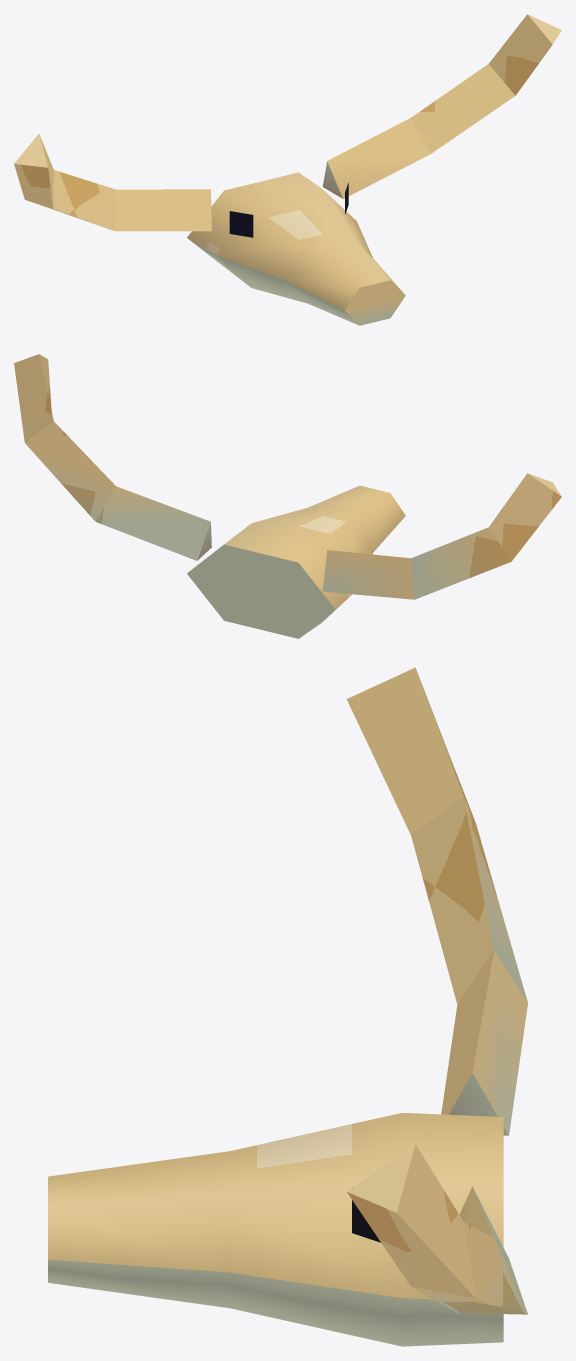
File: wprop.skull.glb
The picture shows the model from 3 angles, top to bottom: view 1: azimuth 30°, elevation 25°; view 2: azimuth 150°, elevation 25°; view 3: azimuth 270°, elevation 25°; orthographic projection. The views are drawn at different scales.
Parts seen in each view (by area): view 1: kit_horns, kit_skull, kit_card_eyes; view 2: kit_horns, kit_skull; view 3: kit_skull, kit_horns.
Part boxes in pixels (bbox=[...]): kit_horns: bbox=[14, 14, 561, 231]; kit_skull: bbox=[187, 172, 405, 325]; kit_card_eyes: bbox=[229, 183, 348, 237]; kit_horns: bbox=[14, 354, 561, 599]; kit_skull: bbox=[187, 485, 405, 638]; kit_skull: bbox=[48, 1113, 503, 1346]; kit_horns: bbox=[346, 667, 527, 1314].
Bounding box in the file's own units: 1.25 × 0.4432 × 0.4743.
Materials: 2 (2 with a texture image).
